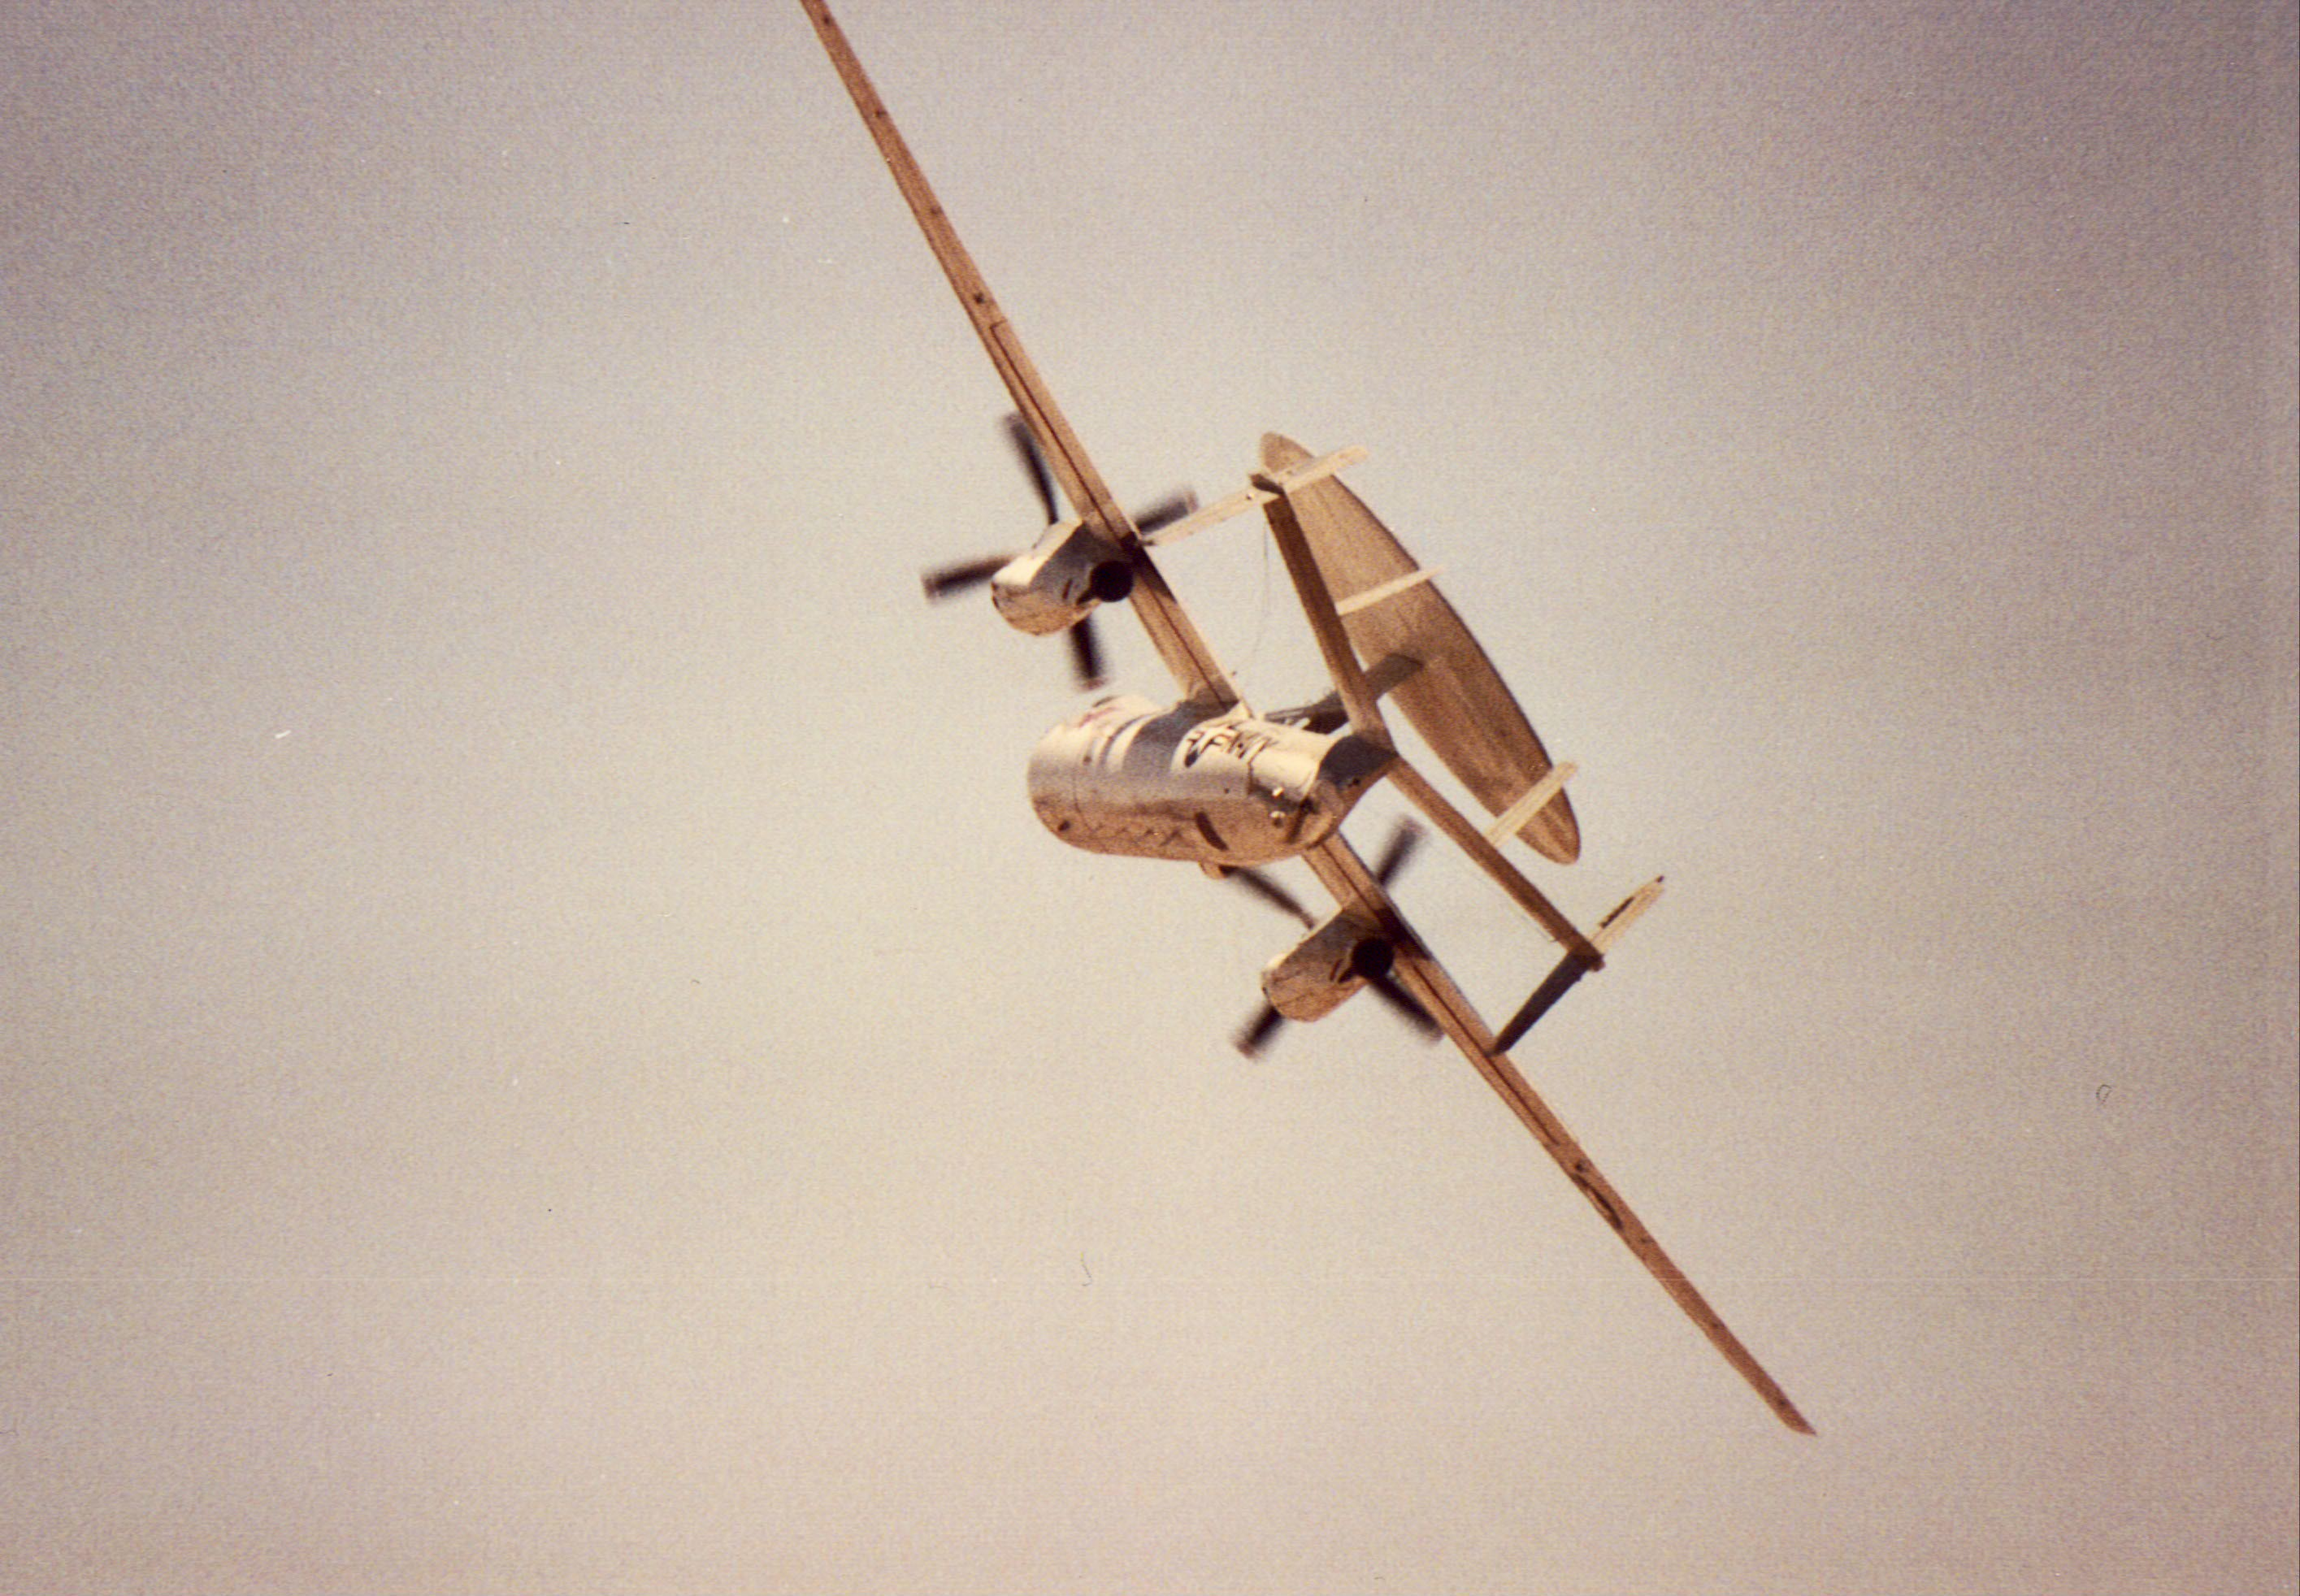E2: (799, 0, 1819, 1437)
